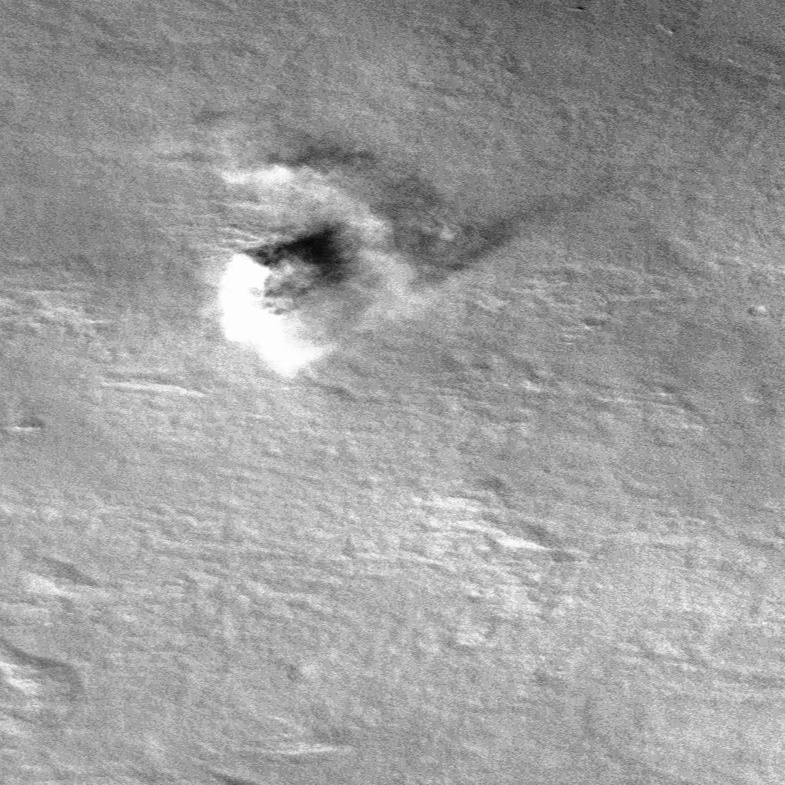dust_devil: (212, 219, 354, 385)
